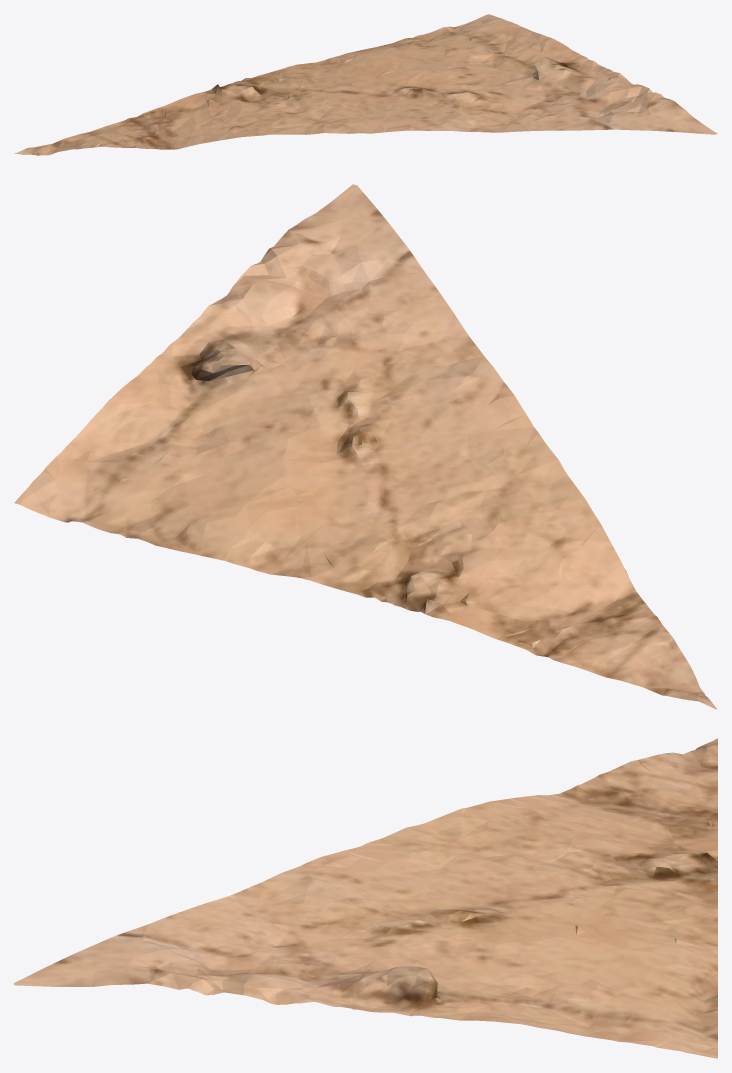
3 renders of one model, top to bottom at view 1: azimuth 30°, elevation 25°; view 2: azimuth 150°, elevation 25°; view 3: azimuth 270°, elevation 25°, orthographic. The views are drawn at different scales.
Bounding box in the file's own units: 6.5 × 0.9545 × 5.42.
1 material, 1 textured.
